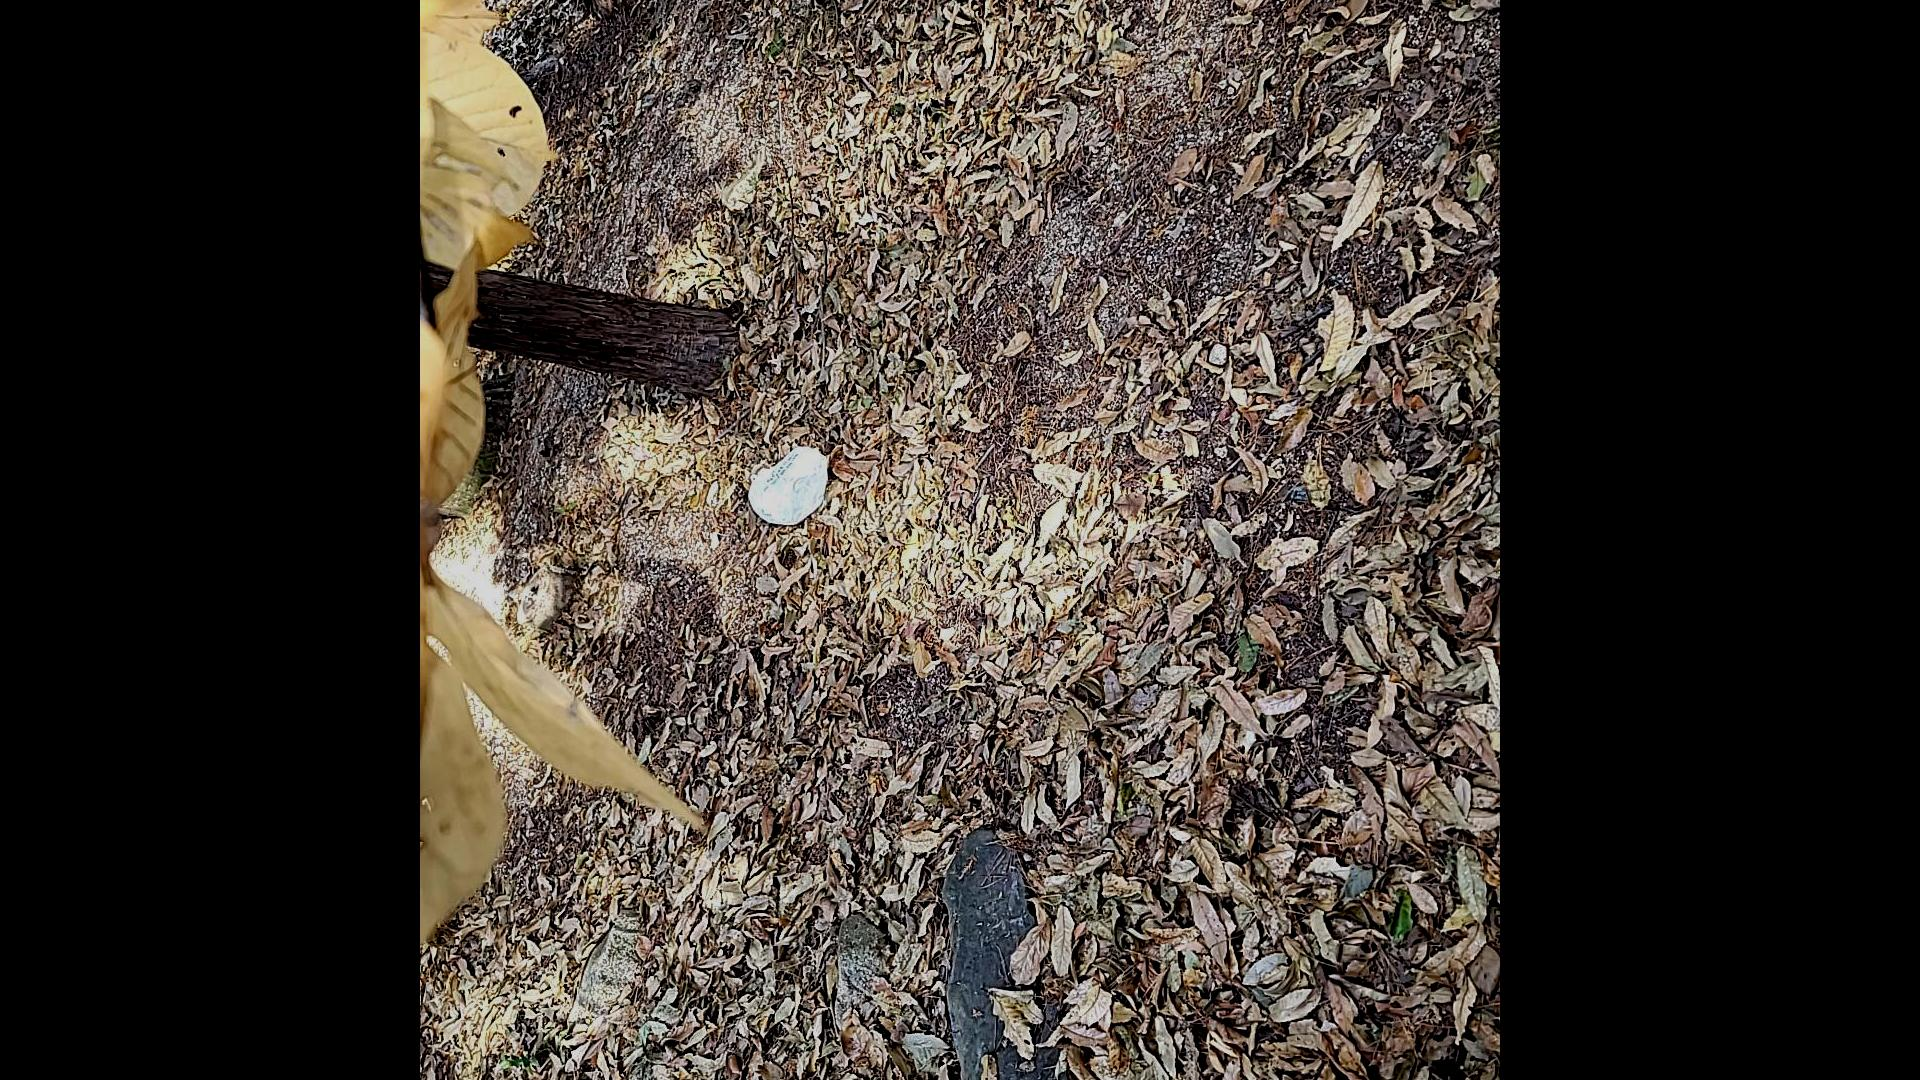white_bag: (742, 438, 833, 530)
